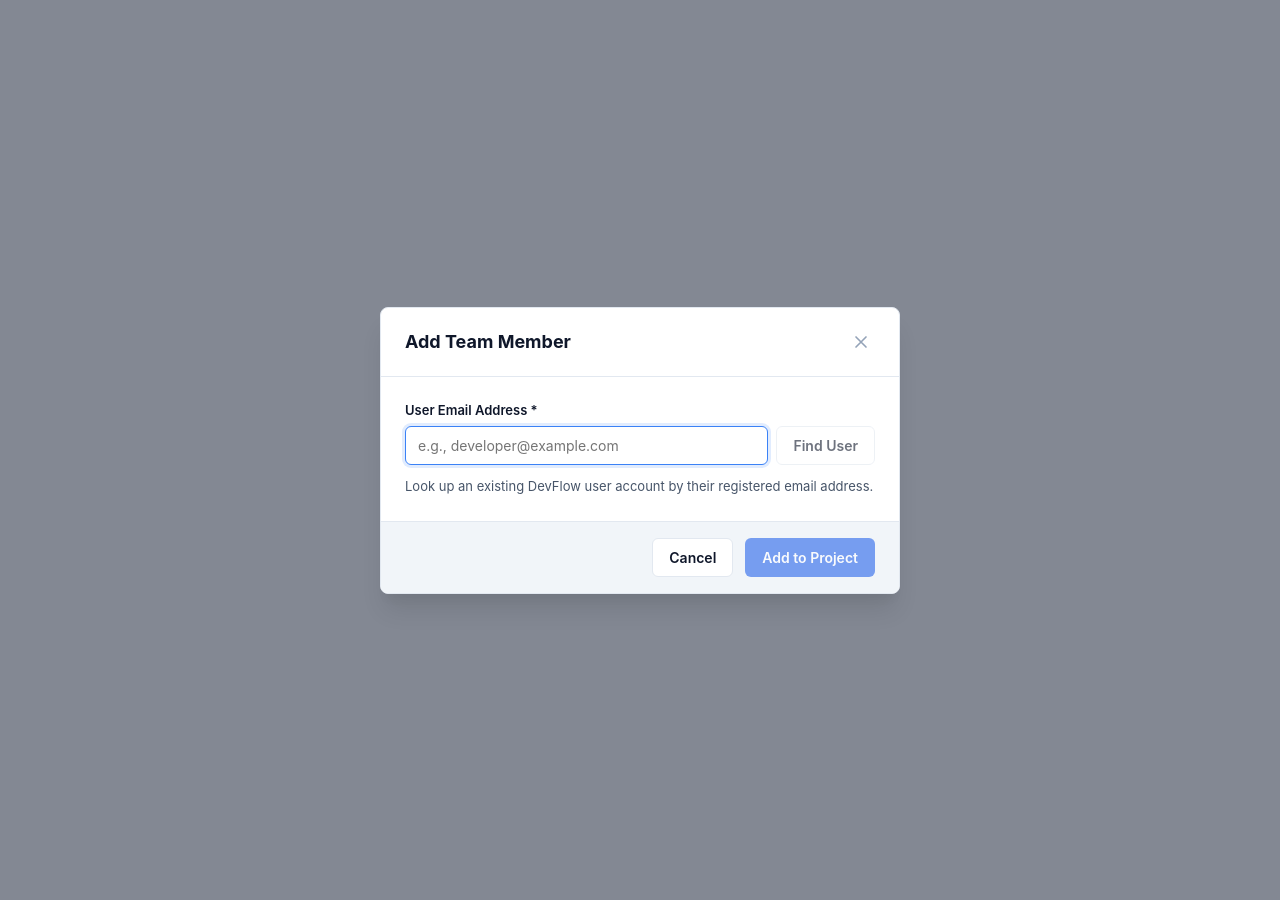
Test: AddMemberModal Component › disables Add button and shows warning if user is already a member
Type "carlos@example.com" into the field labelled "User Email Address *".
click(587, 446); type("carlos@example.com")  # box [405,426,768,465]
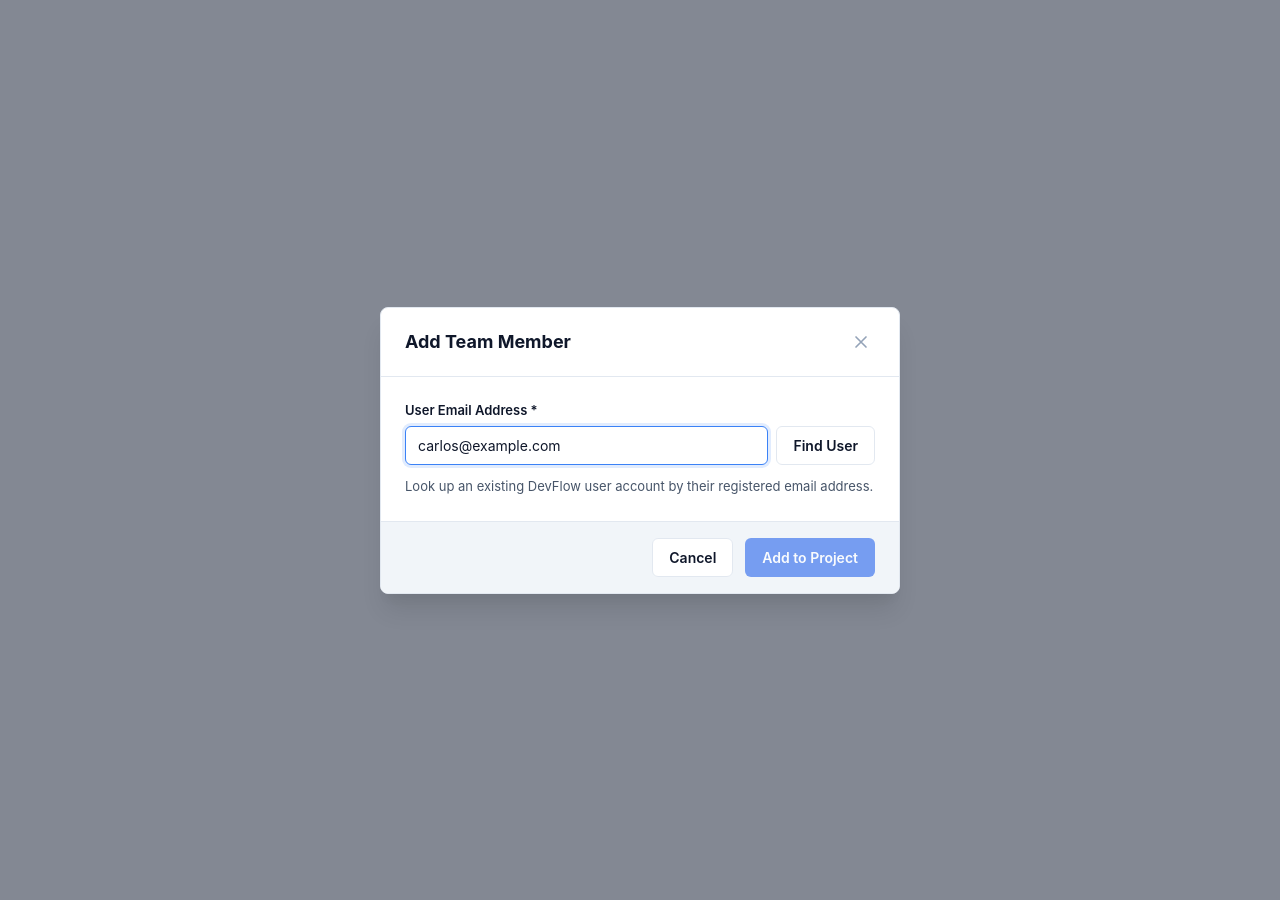
Click the button "Find User".
click(826, 446)  # box [776,426,875,465]
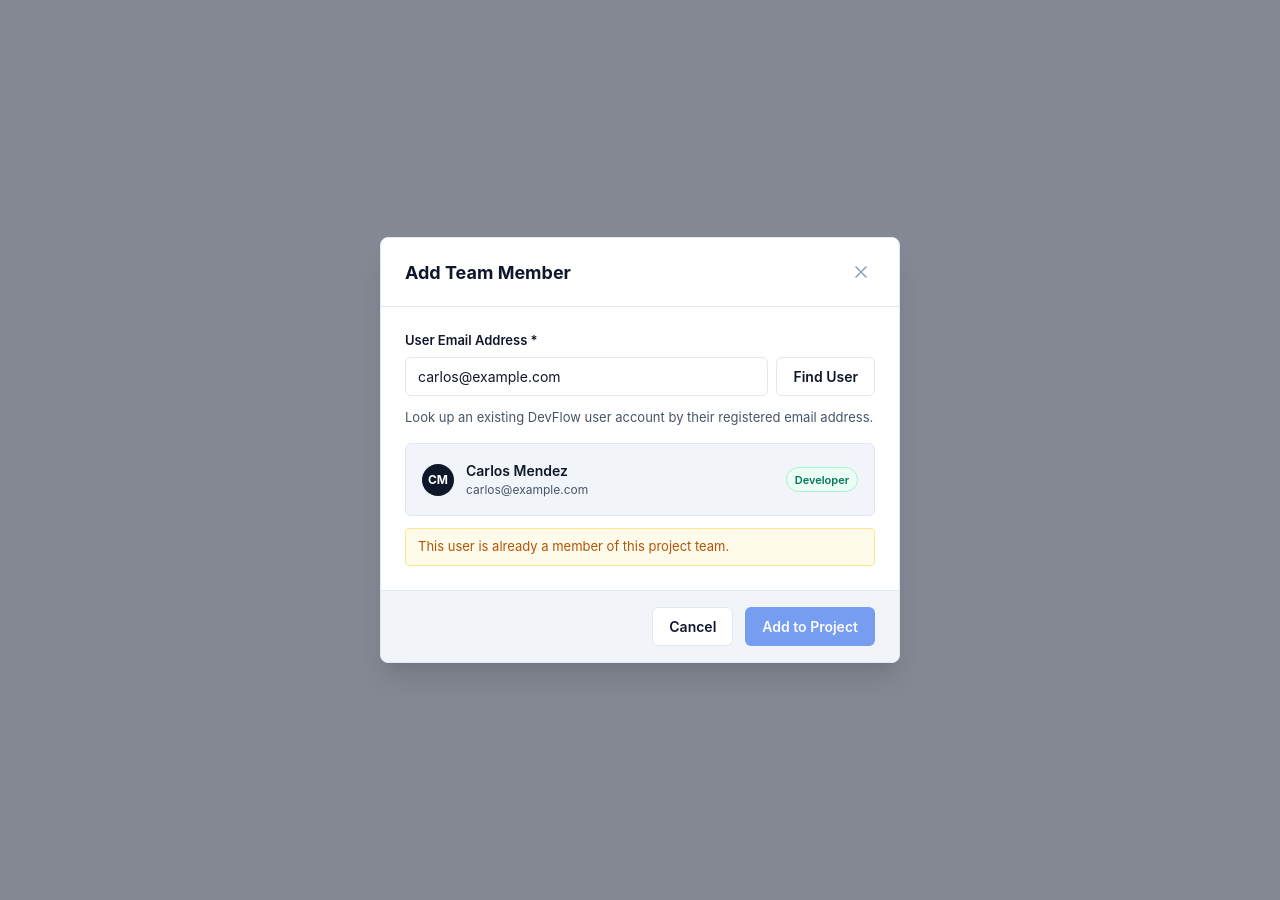
Expected: the button "Add to Project" is disabled, [745,607,875,646]
Expected: the text "Carlos Mendez" is shown, [466,462,568,479]
Expected: the text "This user is already a member of this project team." is shown, [405,528,875,566]
